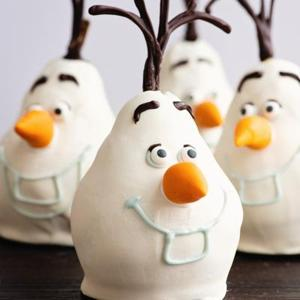olaf: (89, 3, 238, 296)
